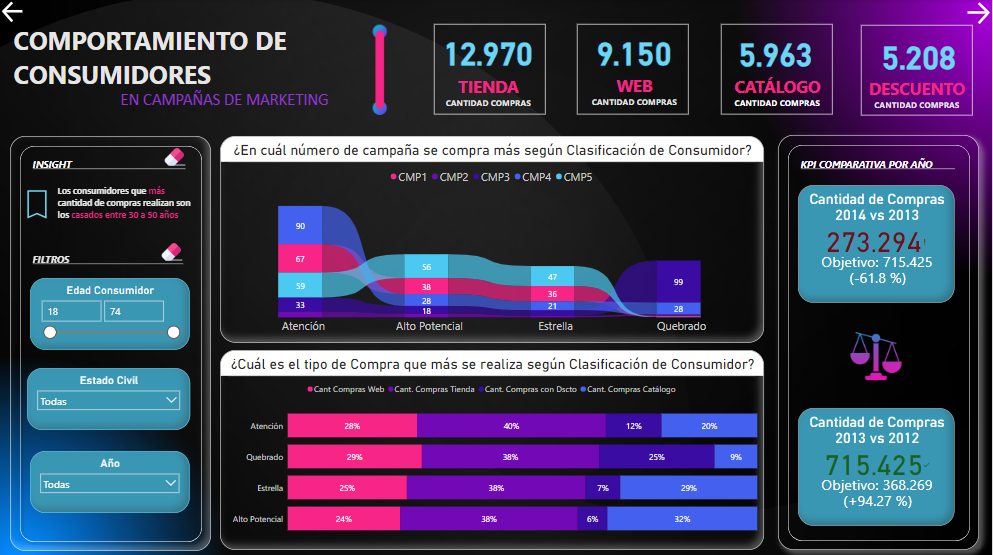

This screenshot's page, from the dashboard's own definition file:
{"tool":"powerbi","page":{"name":"Comportamiento","canvas":[1920,1080],"ordinal":2},"visuals":[{"type":"shape","box":[840.3,48.7,216.4,175.5],"z":0,"group":"g11"},{"type":"shape","box":[1117.1,48.7,216.4,175.5],"z":0,"group":"g10"},{"type":"shape","box":[1395.9,48.7,216.4,175.5],"z":0,"group":"g12"},{"type":"shape","box":[1666.9,50.7,216.4,175.5],"z":0,"group":"g9"},{"type":"group","id":"g1","title":"Grupo 1","box":[1120.6,52.8,212.6,169.4],"z":0,"group":"g5"},{"type":"card","fields":{"Values":["Z_Medidas.NTotalWebPurchases"]},"box":[1120.6,52.8,212.6,93.7],"z":0,"group":"g1"},{"type":"group","id":"g2","title":"Grupo 2","box":[836.4,54.5,216.2,169.4],"z":0,"group":"g6"},{"type":"card","fields":{"Values":["Z_Medidas.NTotalStorePurchases"]},"box":[836.4,54.5,216.2,90.1],"z":0,"group":"g2"},{"type":"group","id":"g3","title":"Grupo 4","box":[1399.5,54.8,201.8,171.2],"z":0,"group":"g7"},{"type":"group","id":"g4","title":"Grupo 3","box":[1667.7,64,216.2,164],"z":0,"group":"g8"},{"type":"card","fields":{"Values":["Z_Medidas.NTotalDealsPurchases"]},"box":[1680.3,64,194.6,82.9],"z":0,"group":"g4"},{"type":"textbox","box":[1407.4,141.8,194.6,83.9],"z":0,"group":"g3"},{"type":"shape","box":[1504.9,262.4,389.2,803.3],"z":0},{"type":"group","id":"g5","title":"Grupo 5","box":[1120.6,52.8,212.6,169.4],"z":1000,"group":"g10"},{"type":"group","id":"g6","title":"Grupo 6","box":[836.4,54.5,216.4,169.6],"z":1000,"group":"g11"},{"type":"group","id":"g7","title":"Grupo 8","box":[1399.5,54.8,201.8,171.2],"z":1000,"group":"g12"},{"type":"card","fields":{"Values":["Z_Medidas.NTotalCatalogPurchases"]},"box":[1399.5,54.8,201.8,93.7],"z":1000,"group":"g3"},{"type":"group","id":"g8","title":"Grupo 7","box":[1667.7,64,216.2,164],"z":1000,"group":"g9"},{"type":"textbox","box":[1129.6,139.3,194.6,82.9],"z":1000,"group":"g1"},{"type":"textbox","box":[847.2,141,194.6,82.9],"z":1000,"group":"g2"},{"type":"textbox","box":[1667.7,145.1,216.2,82.9],"z":1000,"group":"g4"},{"type":"shape","box":[19.6,264.2,389.2,803.3],"z":1000},{"type":"image","box":[709.7,44.8,249.6,185.2],"z":2000},{"type":"ribbonChart","title":"¿En cuál número de campaña se compra más según Clasificación de Consumidor?","fields":{"Category":["Marketing1.CustomerClassif"],"Y":["Z_Medidas.CMP1","Z_Medidas.CMP2","Z_Medidas.CMP3","Z_Medidas.CMP4","Z_Medidas.CMP5"]},"box":[424.9,264.2,1053.2,399.9],"z":3000},{"type":"hundredPercentStackedBarChart","title":"¿Cuál es el tipo de Compra que más se realiza según Clasificación de Consumidor?","fields":{"Category":["Marketing1.CustomerClassif"],"Y":["Z_Medidas.NTotalWebPurchases","Z_Medidas.NTotalStorePurchases","Z_Medidas.NTotalDealsPurchases","Z_Medidas.NTotalCatalogPurchases"]},"box":[424.9,680.1,1053.2,387.4],"z":4000},{"type":"slicer","title":"Edad Consumidor","fields":{"Values":["Marketing1.Age"]},"box":[58.9,540.9,308.8,139.2],"z":5000},{"type":"kpi","title":"Cantidad de  Compras 2014 vs 2013","fields":{"Indicator":["Z_Medidas.CantCompras2014"],"TrendLine":["Tabla Calendario.Año"],"Goal":["Z_Medidas.CantCompras2013"]},"box":[1544.1,360.6,303.5,228.5],"z":6000},{"type":"kpi","title":"Cantidad de  Compras 2013 vs 2012","fields":{"Indicator":["Z_Medidas.CantCompras2013"],"TrendLine":["Tabla Calendario.Año"],"Goal":["Z_Medidas.CantCompras2012"]},"box":[1544.1,790.8,303.5,228.5],"z":7000},{"type":"textbox","box":[21.4,42.8,619.4,205.3],"z":8000},{"type":"slicer","title":"Estado Civil","fields":{"Values":["Marital_Status3.Marital_Status"]},"box":[51.8,714,316,119.6],"z":9000},{"type":"slicer","title":"Año","fields":{"Values":["Tabla Calendario.Año"]},"box":[58.9,874.7,308.8,119.6],"z":10000},{"type":"textbox","box":[58.9,301.7,308.8,42.8],"z":11000},{"type":"textbox","box":[58.9,485.6,308.8,42.8],"z":12000},{"type":"actionButton","box":[37.5,360.6,69.6,75],"z":13000},{"type":"actionButton","box":[0,0,116,50],"z":14000},{"type":"actionButton","box":[1866.4,0,53.6,55.3],"z":15000},{"type":"textbox","box":[107.1,353.5,280.3,101.8],"z":16000},{"type":"textbox","box":[1544.1,301.7,308.8,42.8],"z":17000},{"type":"group","id":"g9","title":"Grupo 9","box":[1666.9,50.7,216.4,177.4],"z":18000},{"type":"group","id":"g10","title":"Grupo 10","box":[1117.1,48.7,216.4,175.5],"z":19000},{"type":"group","id":"g11","title":"Grupo 11","box":[836.4,48.7,220.3,175.5],"z":20000},{"type":"group","id":"g12","title":"Grupo 12","box":[1395.9,48.7,216.4,177.4],"z":21000},{"type":"image","box":[1620.9,637.3,150,108.9],"z":22000},{"type":"image","box":[301.7,464.1,60.7,50],"z":23000},{"type":"image","box":[307,280.3,60.7,50],"z":24000}]}

Visuals, with their boxes in screenshot pixels (x1, y1, x2, y2), scaled from the page's 1920x1080 canvas onto the 993x555 screenshot:
shape: bbox=(435, 25, 547, 115)
shape: bbox=(578, 25, 690, 115)
shape: bbox=(722, 25, 834, 115)
shape: bbox=(862, 26, 974, 116)
"Grupo 1" group: bbox=(580, 27, 690, 114)
card - Z_Medidas.NTotalWebPurchases: bbox=(580, 27, 690, 75)
"Grupo 2" group: bbox=(433, 28, 544, 115)
card - Z_Medidas.NTotalStorePurchases: bbox=(433, 28, 544, 74)
"Grupo 4" group: bbox=(724, 28, 828, 116)
"Grupo 3" group: bbox=(863, 33, 974, 117)
card - Z_Medidas.NTotalDealsPurchases: bbox=(869, 33, 970, 75)
textbox: bbox=(728, 73, 829, 116)
shape: bbox=(778, 135, 980, 548)
"Grupo 5" group: bbox=(580, 27, 690, 114)
"Grupo 6" group: bbox=(433, 28, 544, 115)
"Grupo 8" group: bbox=(724, 28, 828, 116)
card - Z_Medidas.NTotalCatalogPurchases: bbox=(724, 28, 828, 76)
"Grupo 7" group: bbox=(863, 33, 974, 117)
textbox: bbox=(584, 72, 685, 114)
textbox: bbox=(438, 72, 539, 115)
textbox: bbox=(863, 75, 974, 117)
shape: bbox=(10, 136, 211, 549)
image: bbox=(367, 23, 496, 118)
"¿En cuál número de campaña se compra más según Clasificación de Consumidor?" ribbonChart: bbox=(220, 136, 764, 341)
"¿Cuál es el tipo de Compra que más se realiza según Clasificación de Consumidor?" hundredPercentStackedBarChart: bbox=(220, 349, 764, 549)
"Edad Consumidor" slicer: bbox=(30, 278, 190, 349)
"Cantidad de  Compras 2014 vs 2013" kpi: bbox=(799, 185, 956, 303)
"Cantidad de  Compras 2013 vs 2012" kpi: bbox=(799, 406, 956, 524)
textbox: bbox=(11, 22, 331, 127)
"Estado Civil" slicer: bbox=(27, 367, 190, 428)
"Año" slicer: bbox=(30, 449, 190, 511)
textbox: bbox=(30, 155, 190, 177)
textbox: bbox=(30, 250, 190, 272)
actionButton: bbox=(19, 185, 55, 224)
actionButton: bbox=(0, 0, 60, 26)
actionButton: bbox=(965, 0, 992, 28)
textbox: bbox=(55, 182, 200, 234)
textbox: bbox=(799, 155, 958, 177)
"Grupo 9" group: bbox=(862, 26, 974, 117)
"Grupo 10" group: bbox=(578, 25, 690, 115)
"Grupo 11" group: bbox=(433, 25, 547, 115)
"Grupo 12" group: bbox=(722, 25, 834, 116)
image: bbox=(838, 328, 916, 383)
image: bbox=(156, 238, 187, 264)
image: bbox=(159, 144, 190, 170)
